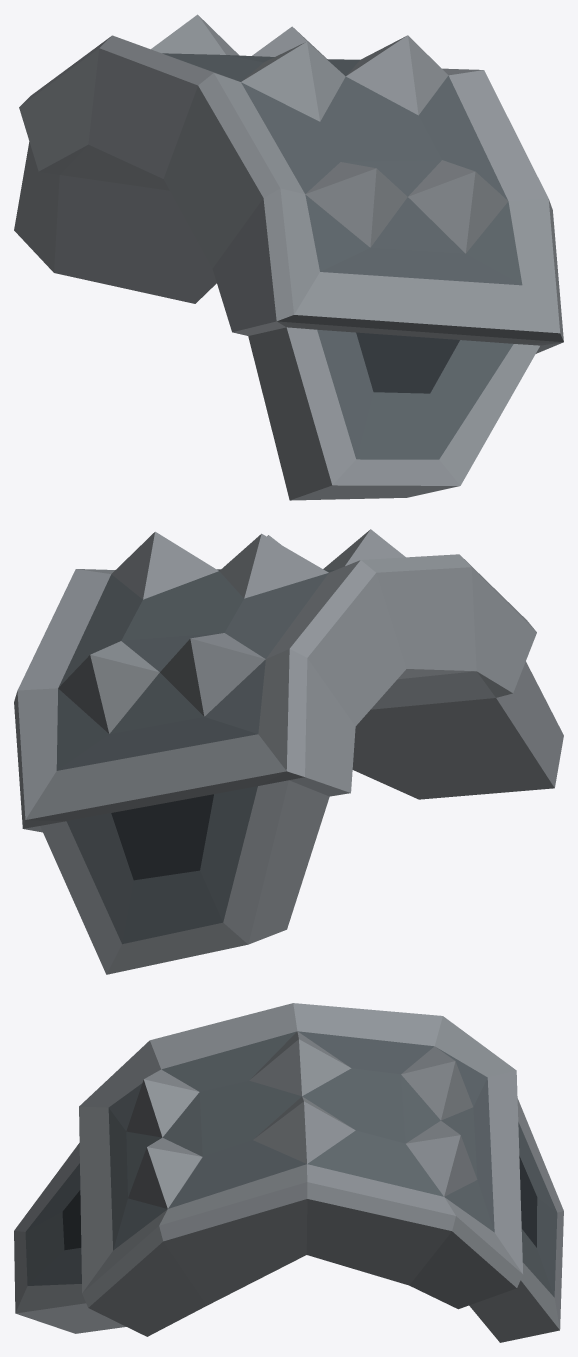
The model's file is Chr_ShoulderAttachLeft_03_Static.fbx.
3 renders of one model, top to bottom at view 1: azimuth 30°, elevation 25°; view 2: azimuth 150°, elevation 25°; view 3: azimuth 270°, elevation 25°, orthographic. The views are drawn at different scales.
Parts seen in each view (by area): view 1: Chr_ShoulderAttachLeft_03_Static; view 2: Chr_ShoulderAttachLeft_03_Static; view 3: Chr_ShoulderAttachLeft_03_Static.
Part boxes in pixels (box(x1,y1,x2,y2)): Chr_ShoulderAttachLeft_03_Static: box(14, 14, 563, 500); Chr_ShoulderAttachLeft_03_Static: box(14, 529, 563, 974); Chr_ShoulderAttachLeft_03_Static: box(14, 1003, 563, 1342).
Bounding box in the file's own units: 0.2194 × 0.2029 × 0.3294.
